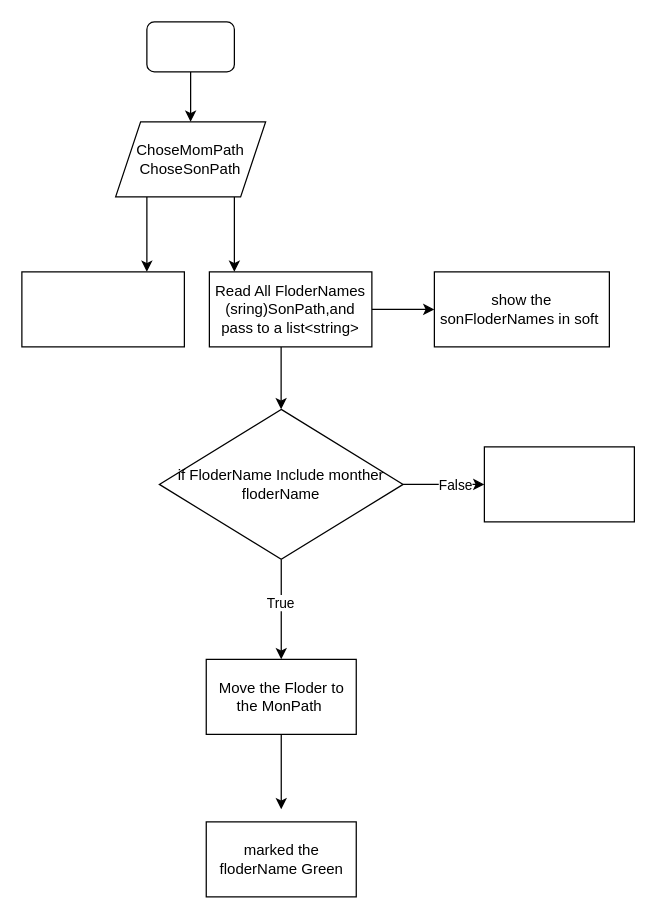
The diagram is 656 pixels wide and 919 high, and some of its shapes have lost their labels. The centre of each missing label's shape, as x and y in pixels:
marked the floderName red: pixel 558 484
Read All FloderNames (sring)MonPath,and pass to a list<string>: pixel 102 309
Star: pixel 190 46
